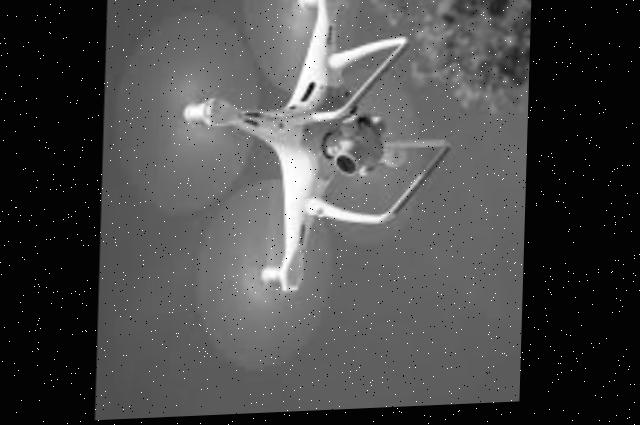drone: (121, 0, 463, 369)
